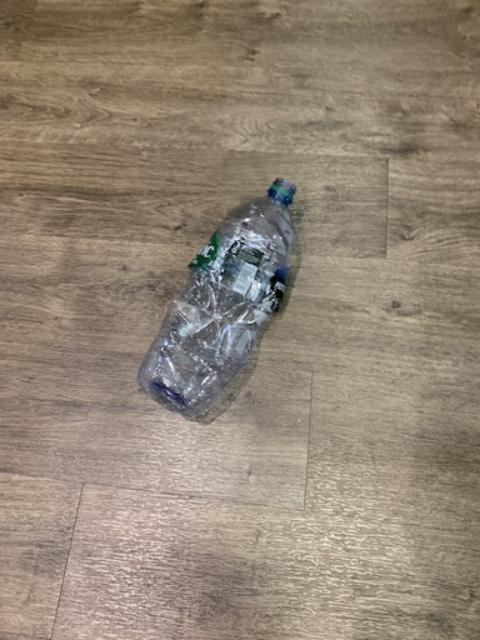plastic: (136, 178, 294, 416)
